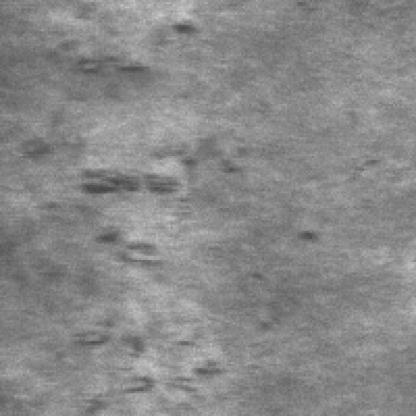rolled-in_scale: (75, 189, 225, 408), (46, 27, 181, 198), (40, 13, 194, 82)
